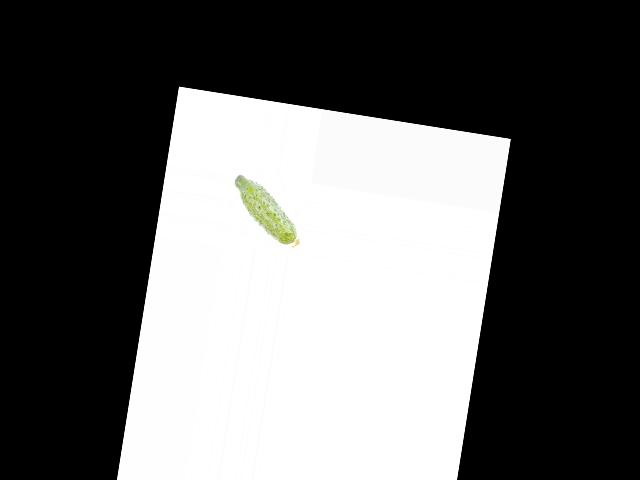cucumber: (226, 173, 309, 248)
